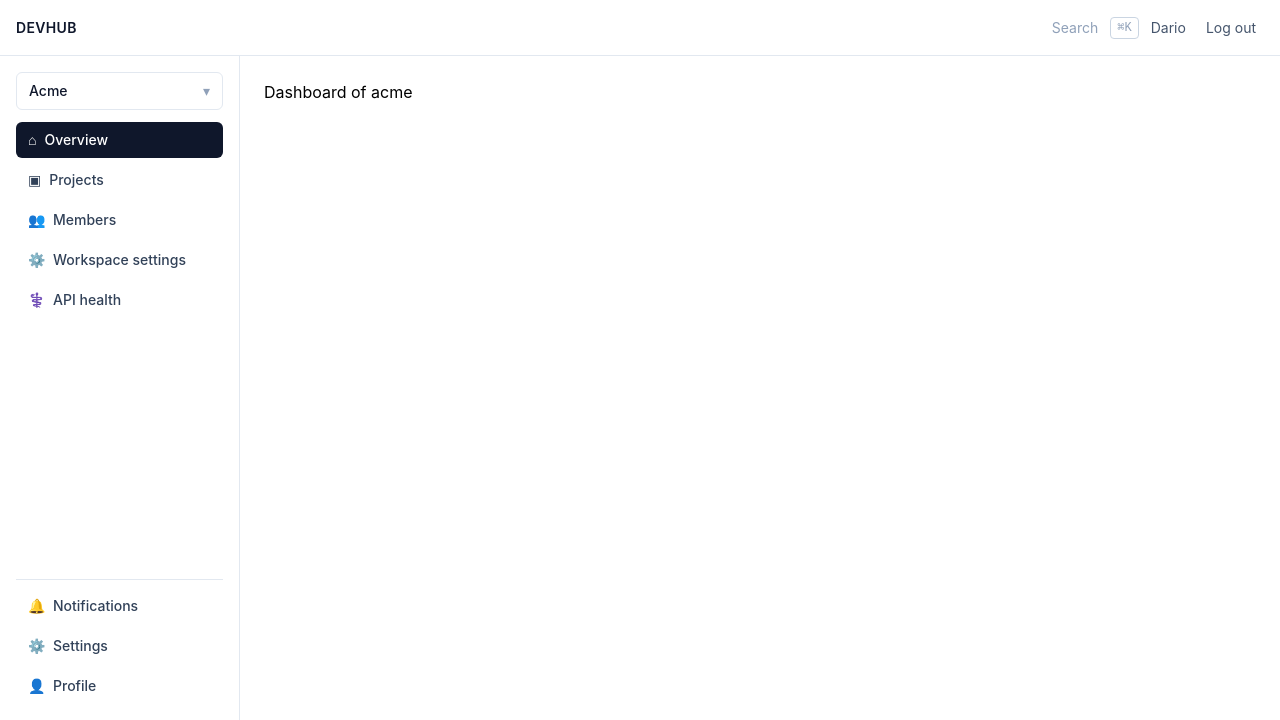
switcher › lists the workspaces with the user’s role in each
Expected: the heading "Dashboard of acme" is shown, [264,82,412,102]
Click the button with aria-label "Workspace: Acme" at point(120, 91), box [16,72,223,110]
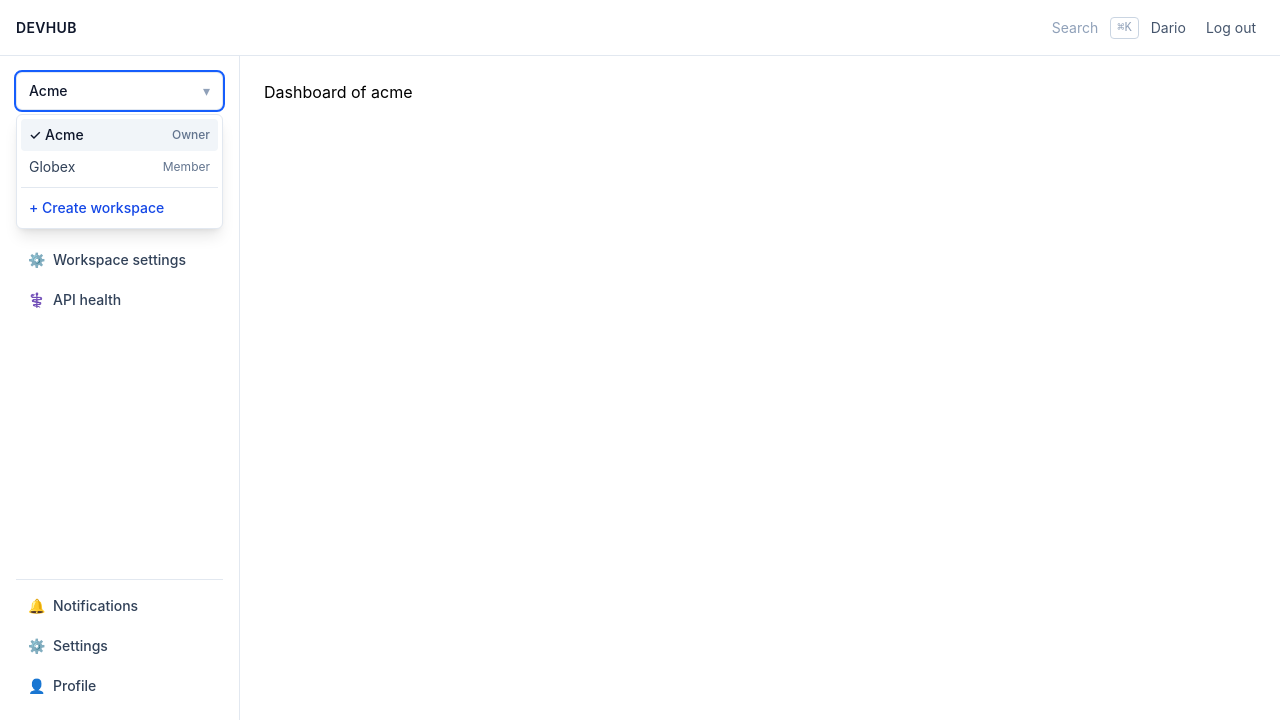
Expected: the link "✓ Acme Owner" is shown, [21,119,218,151]
Expected: the link "Globex Member" is shown, [29,158,210,175]
